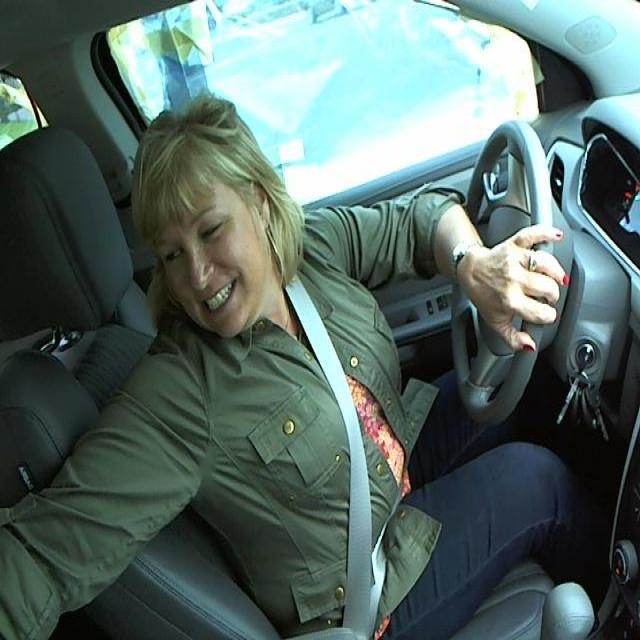seatbelt: (288, 283, 400, 636)
